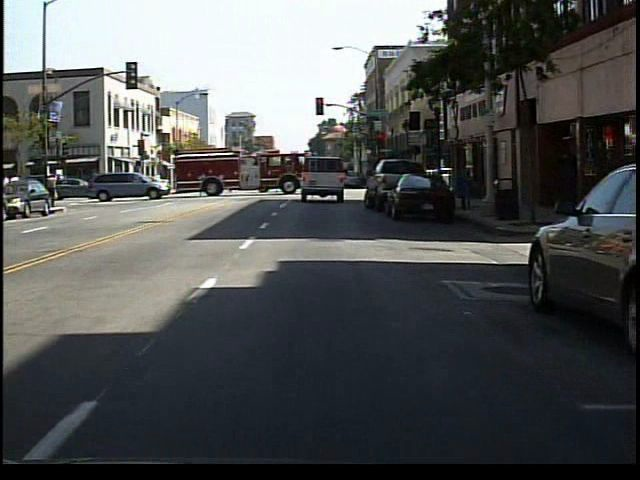person: (44, 170, 61, 209)
